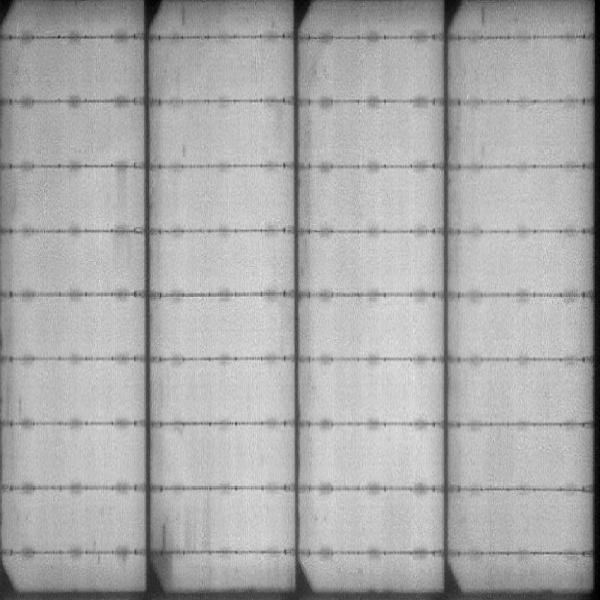scratch: (158, 516, 171, 554), (176, 1, 189, 30), (477, 1, 490, 28)
